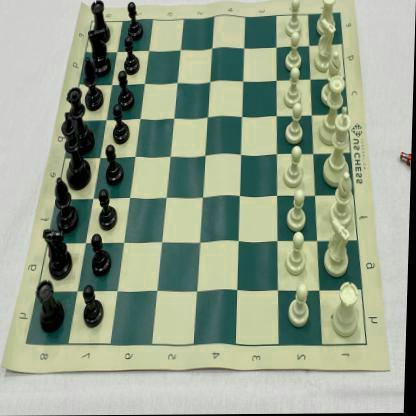black-bishop: (54, 174, 80, 232), (82, 58, 104, 110)
black-king: (60, 112, 94, 190)
black-knight: (42, 227, 75, 278), (86, 27, 112, 76)
black-pawn: (83, 285, 106, 330), (98, 189, 121, 233), (91, 233, 113, 279), (105, 144, 126, 185), (126, 2, 144, 42), (117, 70, 135, 110), (113, 104, 130, 145), (123, 36, 140, 75)
black-queen: (65, 87, 96, 154)
black-rook: (36, 279, 68, 333), (90, 0, 112, 44)
white-bishop: (330, 172, 354, 228), (320, 50, 342, 107)
white-king: (323, 107, 353, 188)
white-knight: (325, 219, 352, 278), (314, 20, 338, 72)
white-pawn: (288, 282, 316, 329), (286, 231, 308, 275), (284, 146, 304, 188), (288, 190, 308, 231), (284, 32, 303, 73), (286, 103, 304, 146), (284, 0, 303, 39), (284, 68, 302, 108)
white-queen: (320, 76, 347, 146)
white-rook: (334, 282, 364, 338), (316, 0, 336, 37)
